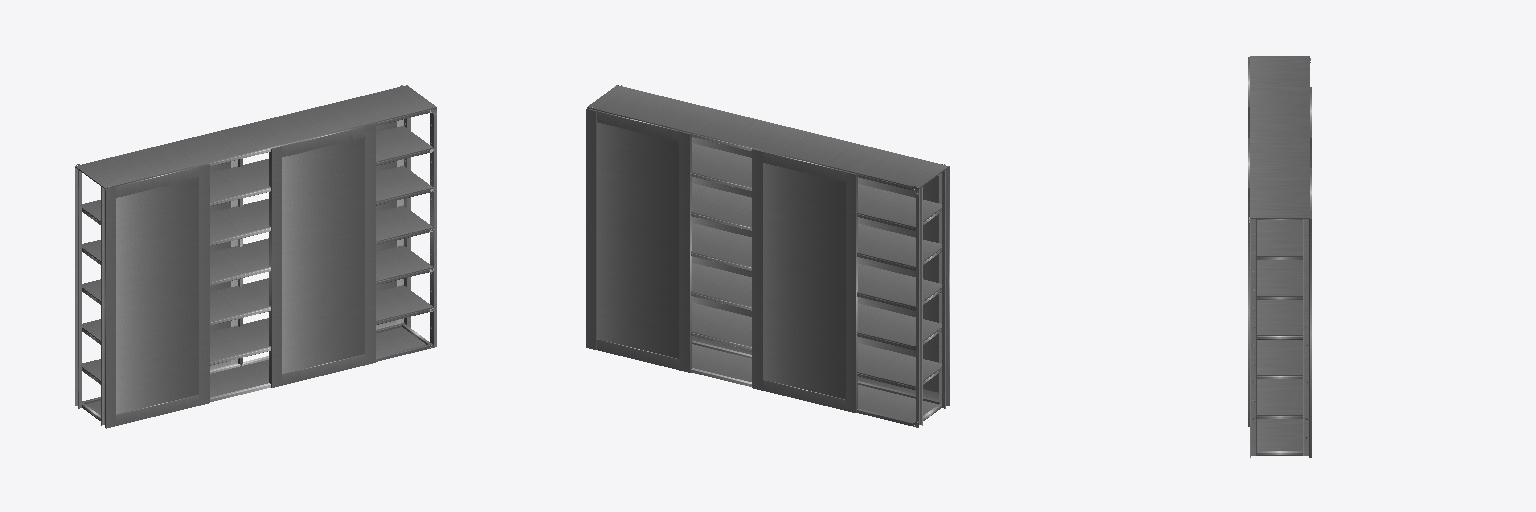
3 renders of one model, left to right at view 1: azimuth 30°, elevation 25°; view 2: azimuth 150°, elevation 25°; view 3: azimuth 270°, elevation 25°, orthographic.
Parts seen in each view (by area): view 1: shelf:Obj_000017, shelf:Obj_000018, shelf:Obj_000021, shelf:Obj_000023, shelf:Obj_000027, shelf:Obj_000026, shelf:Obj_000024, shelf:Obj_000025, shelf:Obj_000004, shelf:Obj_000002, shelf:Obj_000001, shelf:Obj_000003 (+10 smaller); view 2: shelf:Obj_000019, shelf:Obj_000020, shelf:Obj_000021, shelf:Obj_000025, shelf:Obj_000024, shelf:Obj_000026, shelf:Obj_000027, shelf:Obj_000023, shelf:Obj_000018, shelf:Obj_000022, shelf:Obj_000012, shelf:Obj_000010 (+10 smaller); view 3: shelf:Obj_000021, shelf:Obj_000024, shelf:Obj_000023, shelf:Obj_000027, shelf:Obj_000025, shelf:Obj_000026, shelf:Obj_000030, shelf:Obj_000031, shelf:Obj_000022.
Part boxes in pixels (x1,y1,x2,y2): shelf:Obj_000017: (282,137,364,373); shelf:Obj_000018: (116,178,198,414); shelf:Obj_000021: (75,85,436,188); shelf:Obj_000023: (82,126,433,221); shelf:Obj_000027: (82,285,433,381); shelf:Obj_000026: (82,245,433,341); shelf:Obj_000024: (82,166,433,261); shelf:Obj_000025: (82,205,433,301); shelf:Obj_000004: (199,164,209,405); shelf:Obj_000002: (271,146,281,387); shelf:Obj_000001: (365,123,375,364); shelf:Obj_000003: (105,187,115,428); shelf:Obj_000019: (763,163,845,399); shelf:Obj_000020: (597,122,678,358); shelf:Obj_000021: (587,85,948,188); shelf:Obj_000025: (691,223,941,307); shelf:Obj_000024: (691,183,941,267); shelf:Obj_000026: (691,263,941,347); shelf:Obj_000027: (691,303,941,386); shelf:Obj_000023: (691,143,941,227); shelf:Obj_000018: (858,176,938,392); shelf:Obj_000022: (691,344,940,425); shelf:Obj_000012: (679,131,690,372); shelf:Obj_000010: (752,149,762,390); shelf:Obj_000021: (1250,56,1309,218); shelf:Obj_000024: (1252,260,1307,296); shelf:Obj_000023: (1252,220,1307,256); shelf:Obj_000027: (1252,379,1307,415); shelf:Obj_000025: (1252,300,1307,335); shelf:Obj_000026: (1253,340,1306,375); shelf:Obj_000030: (1250,219,1256,457); shelf:Obj_000031: (1303,219,1309,457); shelf:Obj_000022: (1254,419,1305,455).
Bounding box in the file's own units: 1.72 × 1.19 × 0.2849.
Materials: 1 (1 with a texture image).